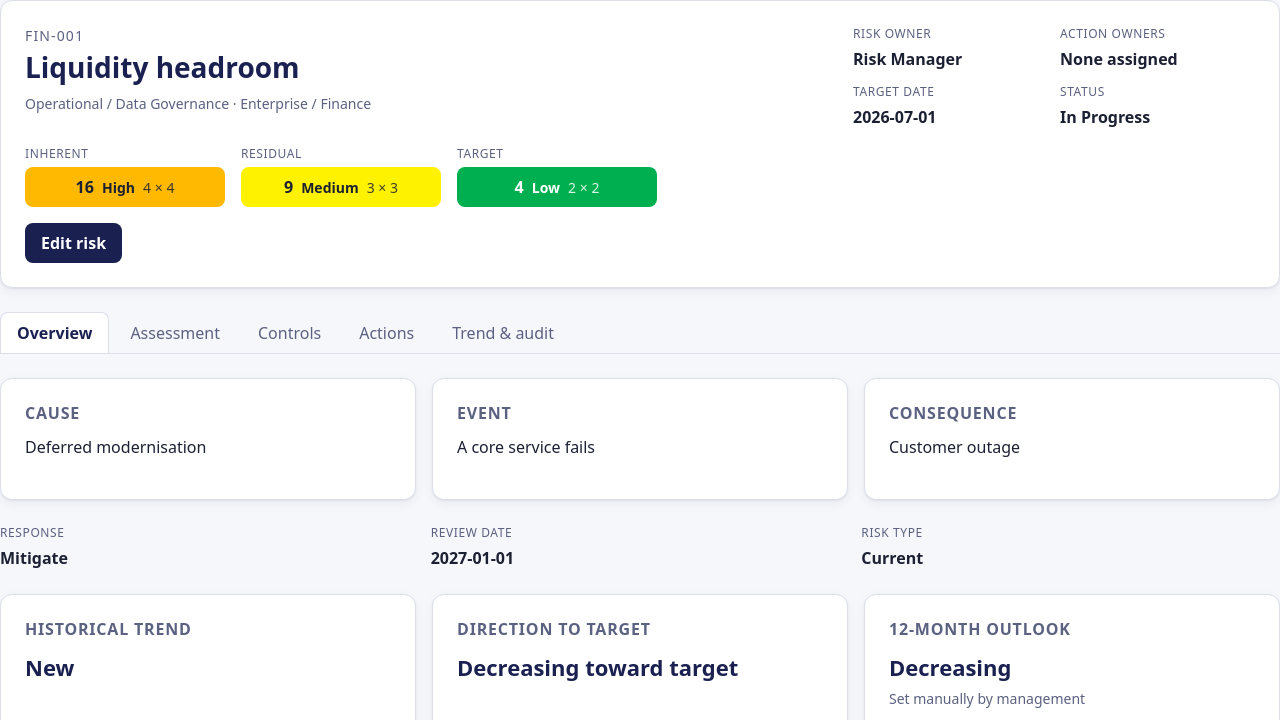
it: all five tabs › shows empty states rather than blank panels on a minimal risk
The width and height of the screenshot is (1280, 720).
Expected: the heading "Liquidity headroom" is shown, [25, 48, 300, 86]
Click the tab "Controls" at {"x": 290, "y": 333}, box [241, 312, 338, 353]
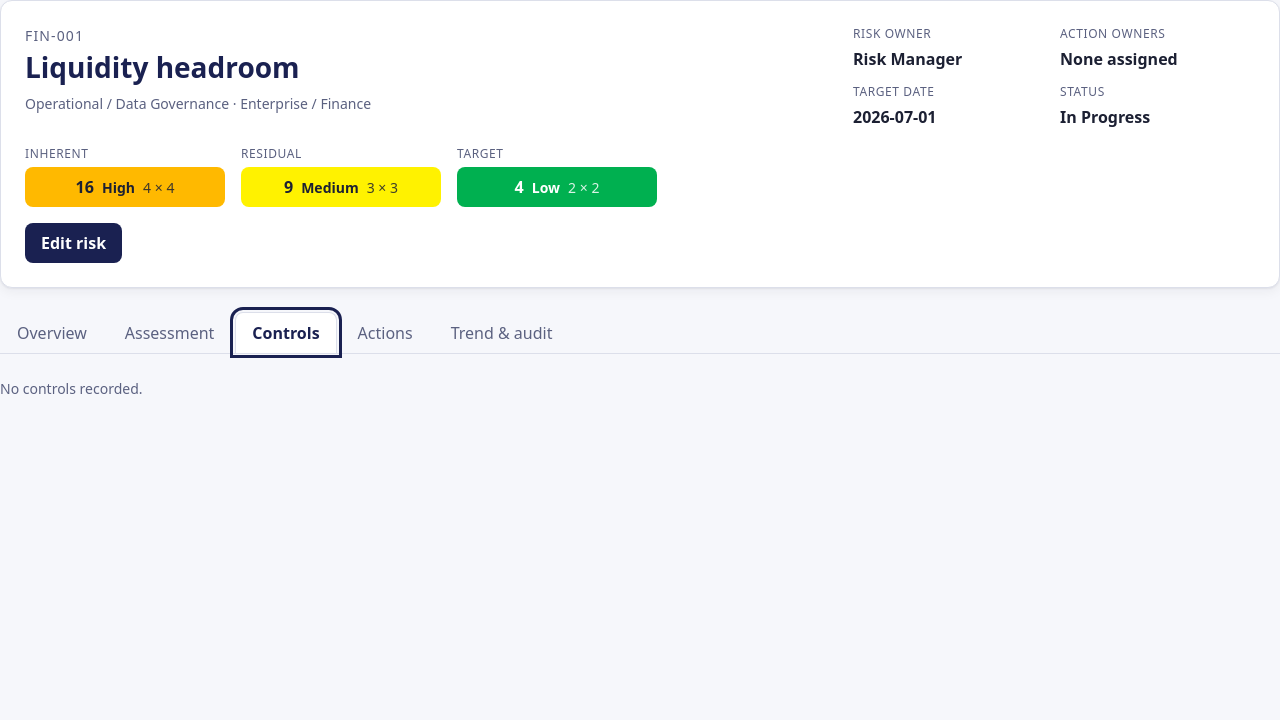
Expected: the text "No controls recorded." is shown, [0, 379, 142, 398]
Click the tab "Actions" at {"x": 385, "y": 333}, box [341, 312, 430, 353]
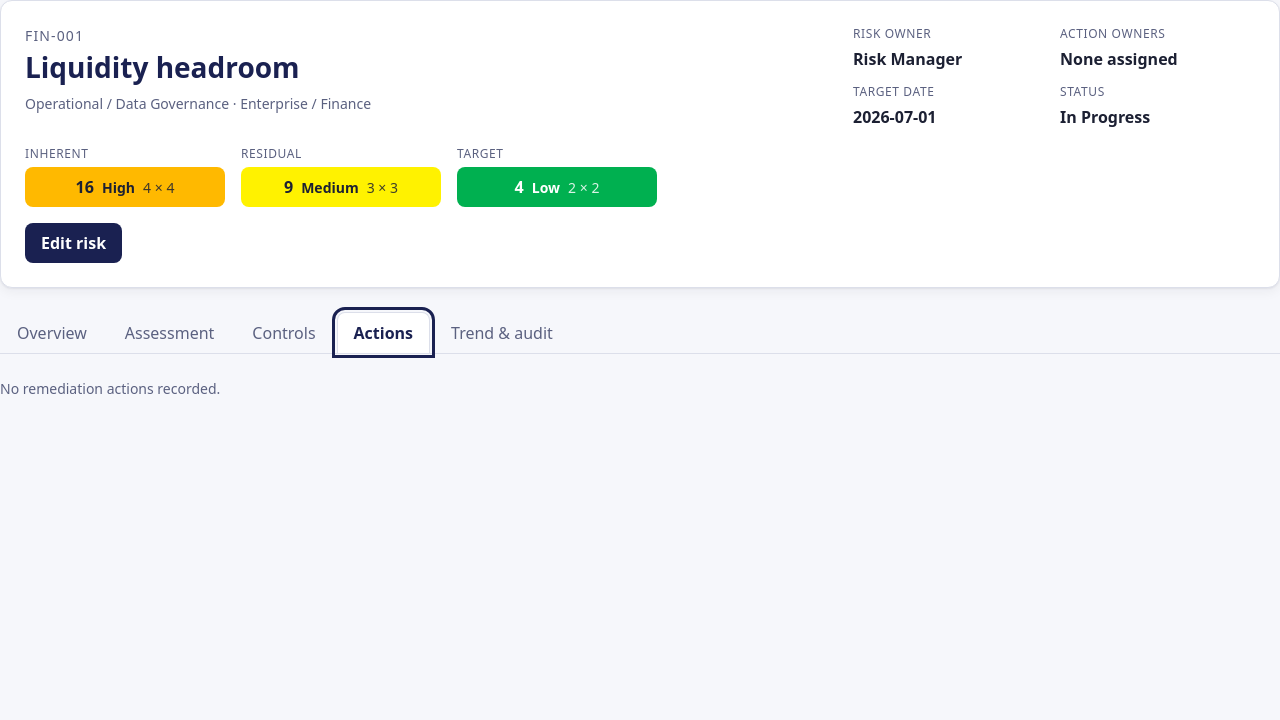
Expected: the text "No remediation actions recorded." is shown, [0, 379, 220, 398]
Click the tab "Trend & audit" at {"x": 502, "y": 333}, box [434, 312, 570, 353]
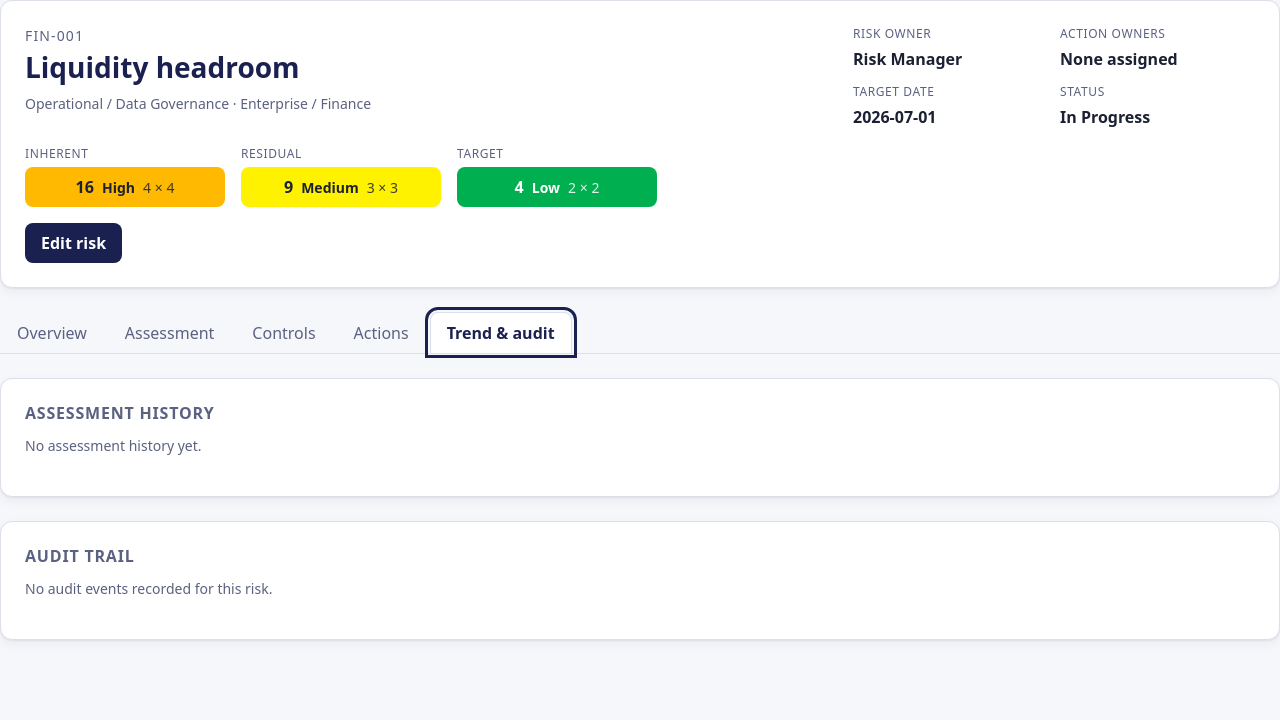
Expected: the text "No audit events recorded for this risk." is shown, [25, 579, 272, 598]
